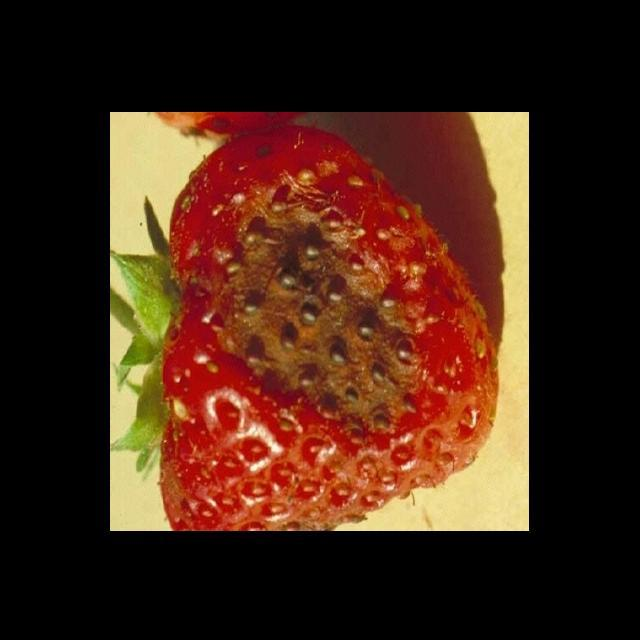Anthracnose Fruit Rot: (188, 161, 428, 455)
